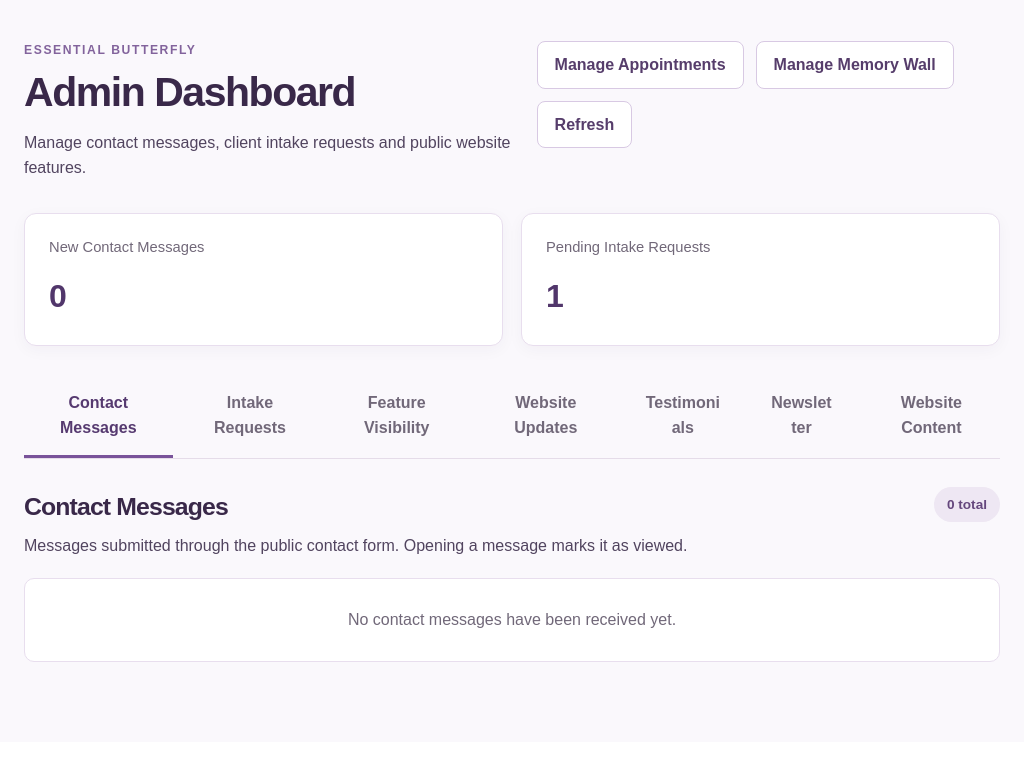
Test: AdminDashboard › opens an intake request and offers accept and reject
The image size is (1024, 761).
Click the button "Intake Requests".
click(250, 417)  # box x1=183 y1=376 x2=317 y2=458
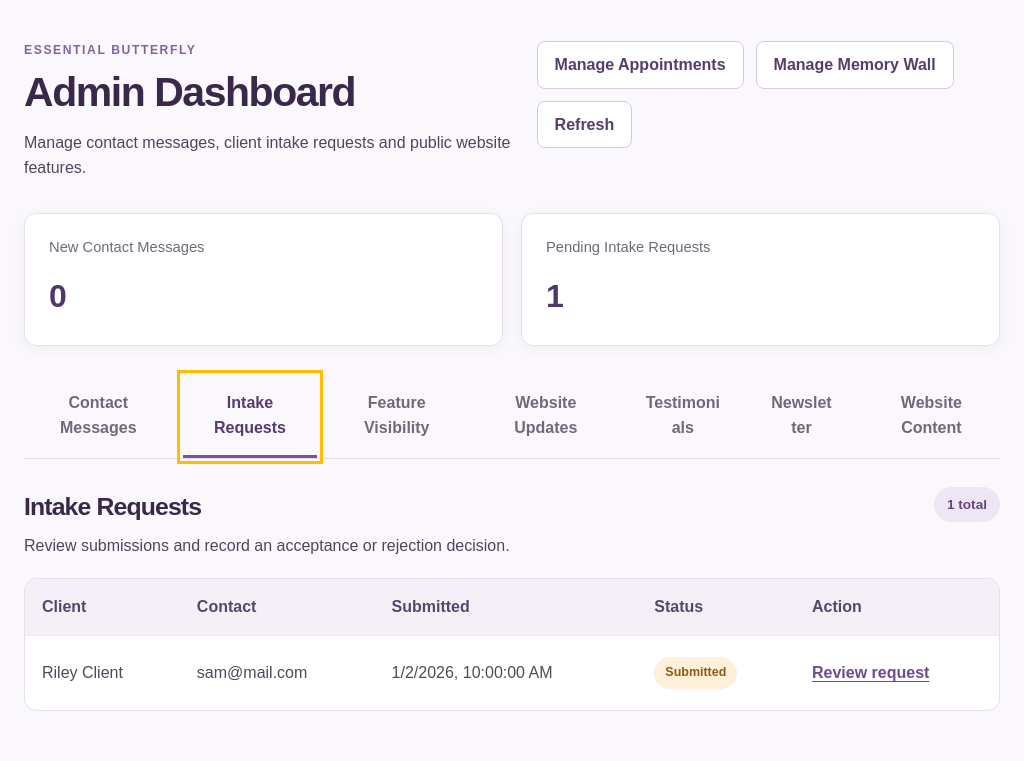
Click the button "Review request".
click(871, 673)  # box x1=812 y1=651 x2=929 y2=695
(page scrolled)
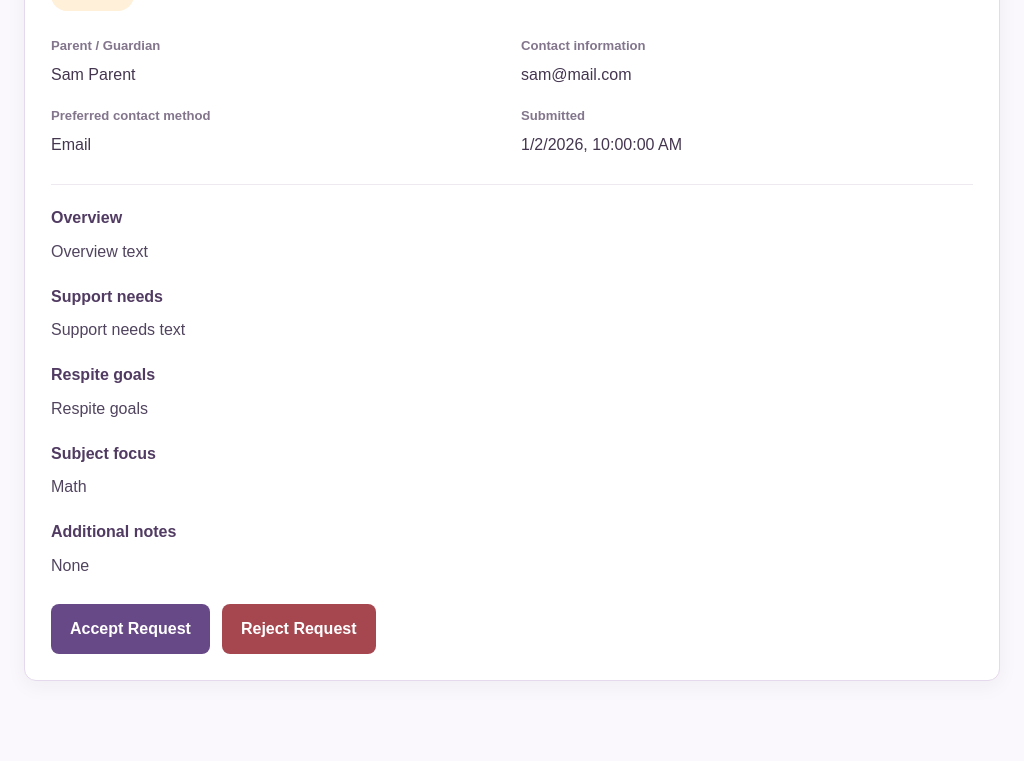
Expected: the text "Support needs text" is shown, x1=51 y1=321 x2=185 y2=338
Expected: the button "Accept Request" is shown, x1=51 y1=604 x2=210 y2=654
Expected: the button "Reject Request" is shown, x1=222 y1=604 x2=376 y2=654
